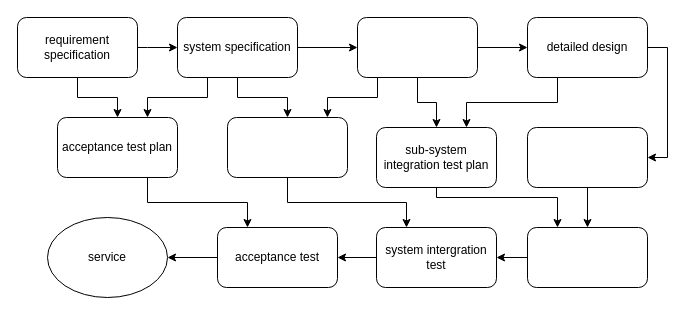
Image size: 693x315. Some labels were removed from this diagram. The shapes that lost their labels are listed below. From the top down, each one's centre as x and y in pixels, then its label:
At point (417, 47): "system design".
At point (287, 147): "system integration test plan".
At point (587, 157): "module/ unit code test".
At point (587, 257): "sub-system integration test".
